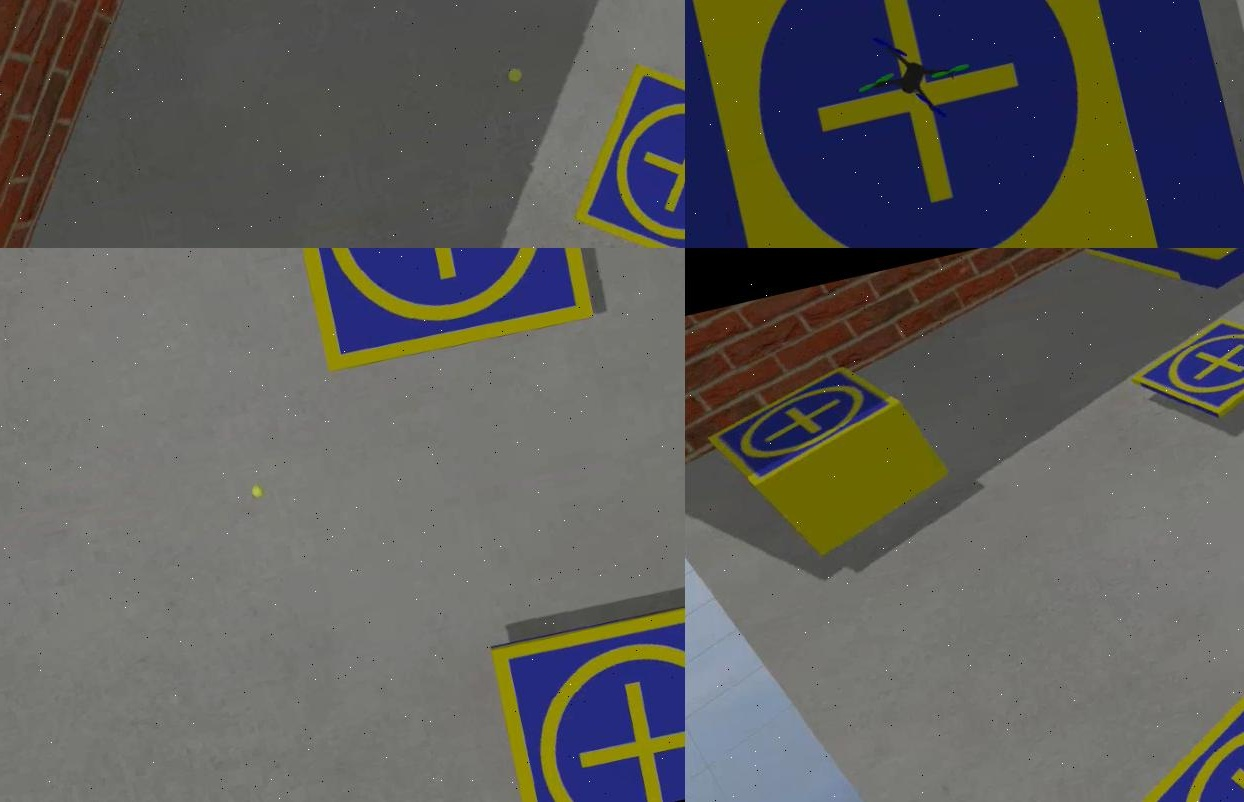large_base: (684, 1, 1242, 249), (1074, 249, 1242, 317)
small_base: (261, 249, 600, 378), (486, 585, 684, 802), (694, 353, 916, 500), (545, 32, 684, 249), (1119, 297, 1242, 438)
